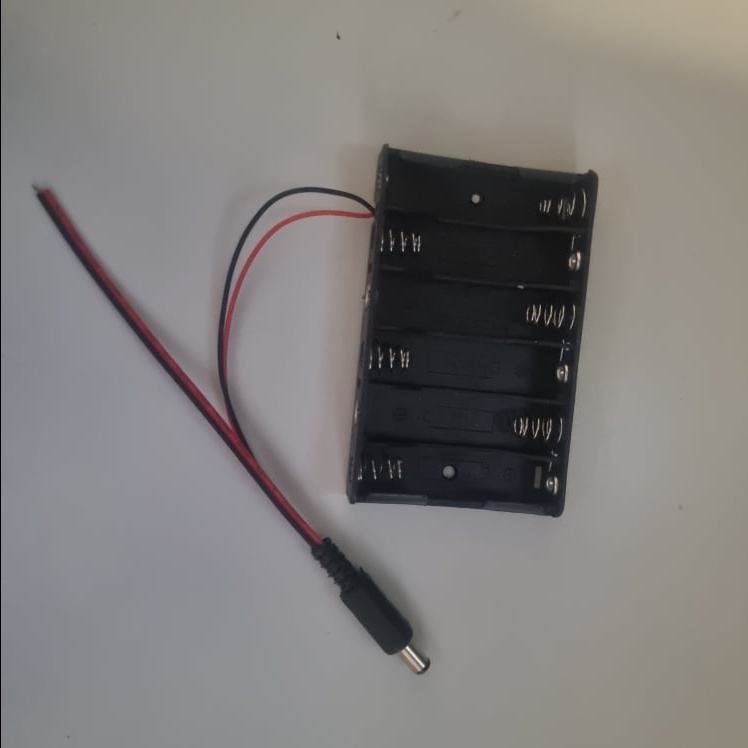BATTERY BOX: (342, 137, 599, 519)
